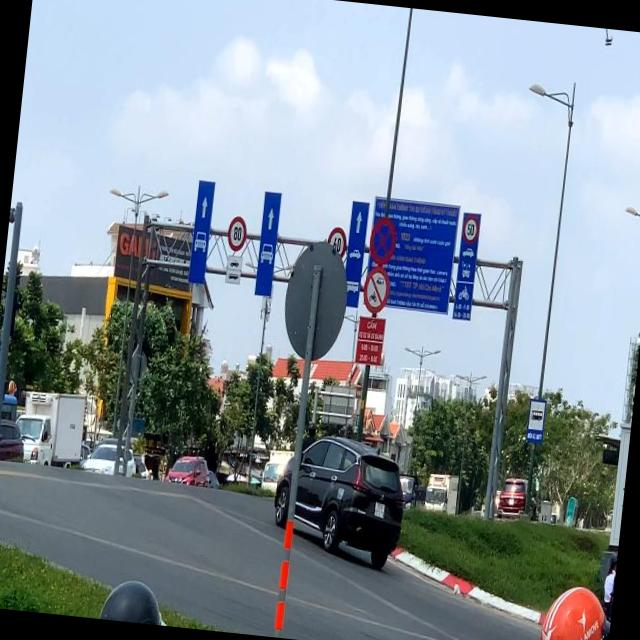P-104: (362, 267, 391, 313)
P-130: (367, 214, 398, 263)
